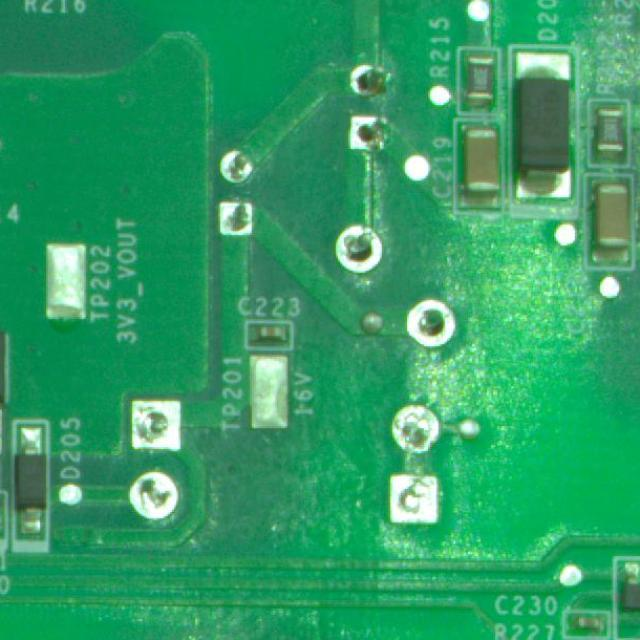Insufficient solder: (378, 472, 454, 539), (323, 213, 391, 284), (122, 394, 202, 451), (198, 188, 268, 242), (124, 468, 196, 520), (403, 292, 463, 353), (208, 144, 268, 202), (386, 398, 444, 456), (336, 59, 392, 108), (340, 112, 385, 163)
